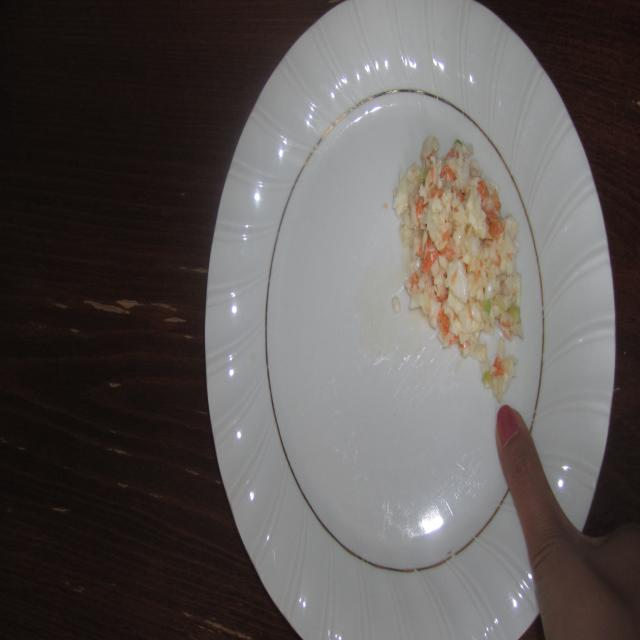vegatable salad: (384, 124, 528, 406)
